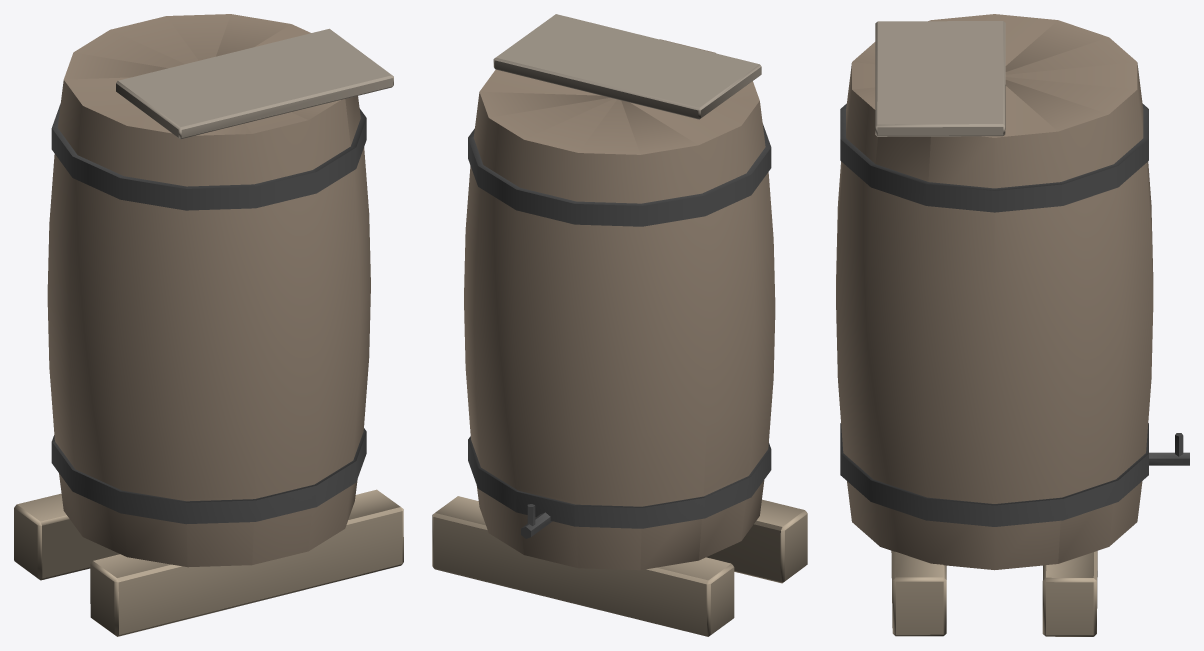
The model's file is rain_barrel.glb.
3 views of the same model, side by side, from view 1: azimuth 30°, elevation 25°; view 2: azimuth 150°, elevation 25°; view 3: azimuth 270°, elevation 25° (orthographic). The views are drawn at different scales.
Visible parts, largest first — view 1: static; view 2: static; view 3: static.
Part boxes in pixels (<box>): static: <box>14,14,403,636</box>; static: <box>432,14,807,636</box>; static: <box>836,14,1189,636</box>.
Bounding box in the file's own units: 0.6209 × 1.03 × 0.6525.
